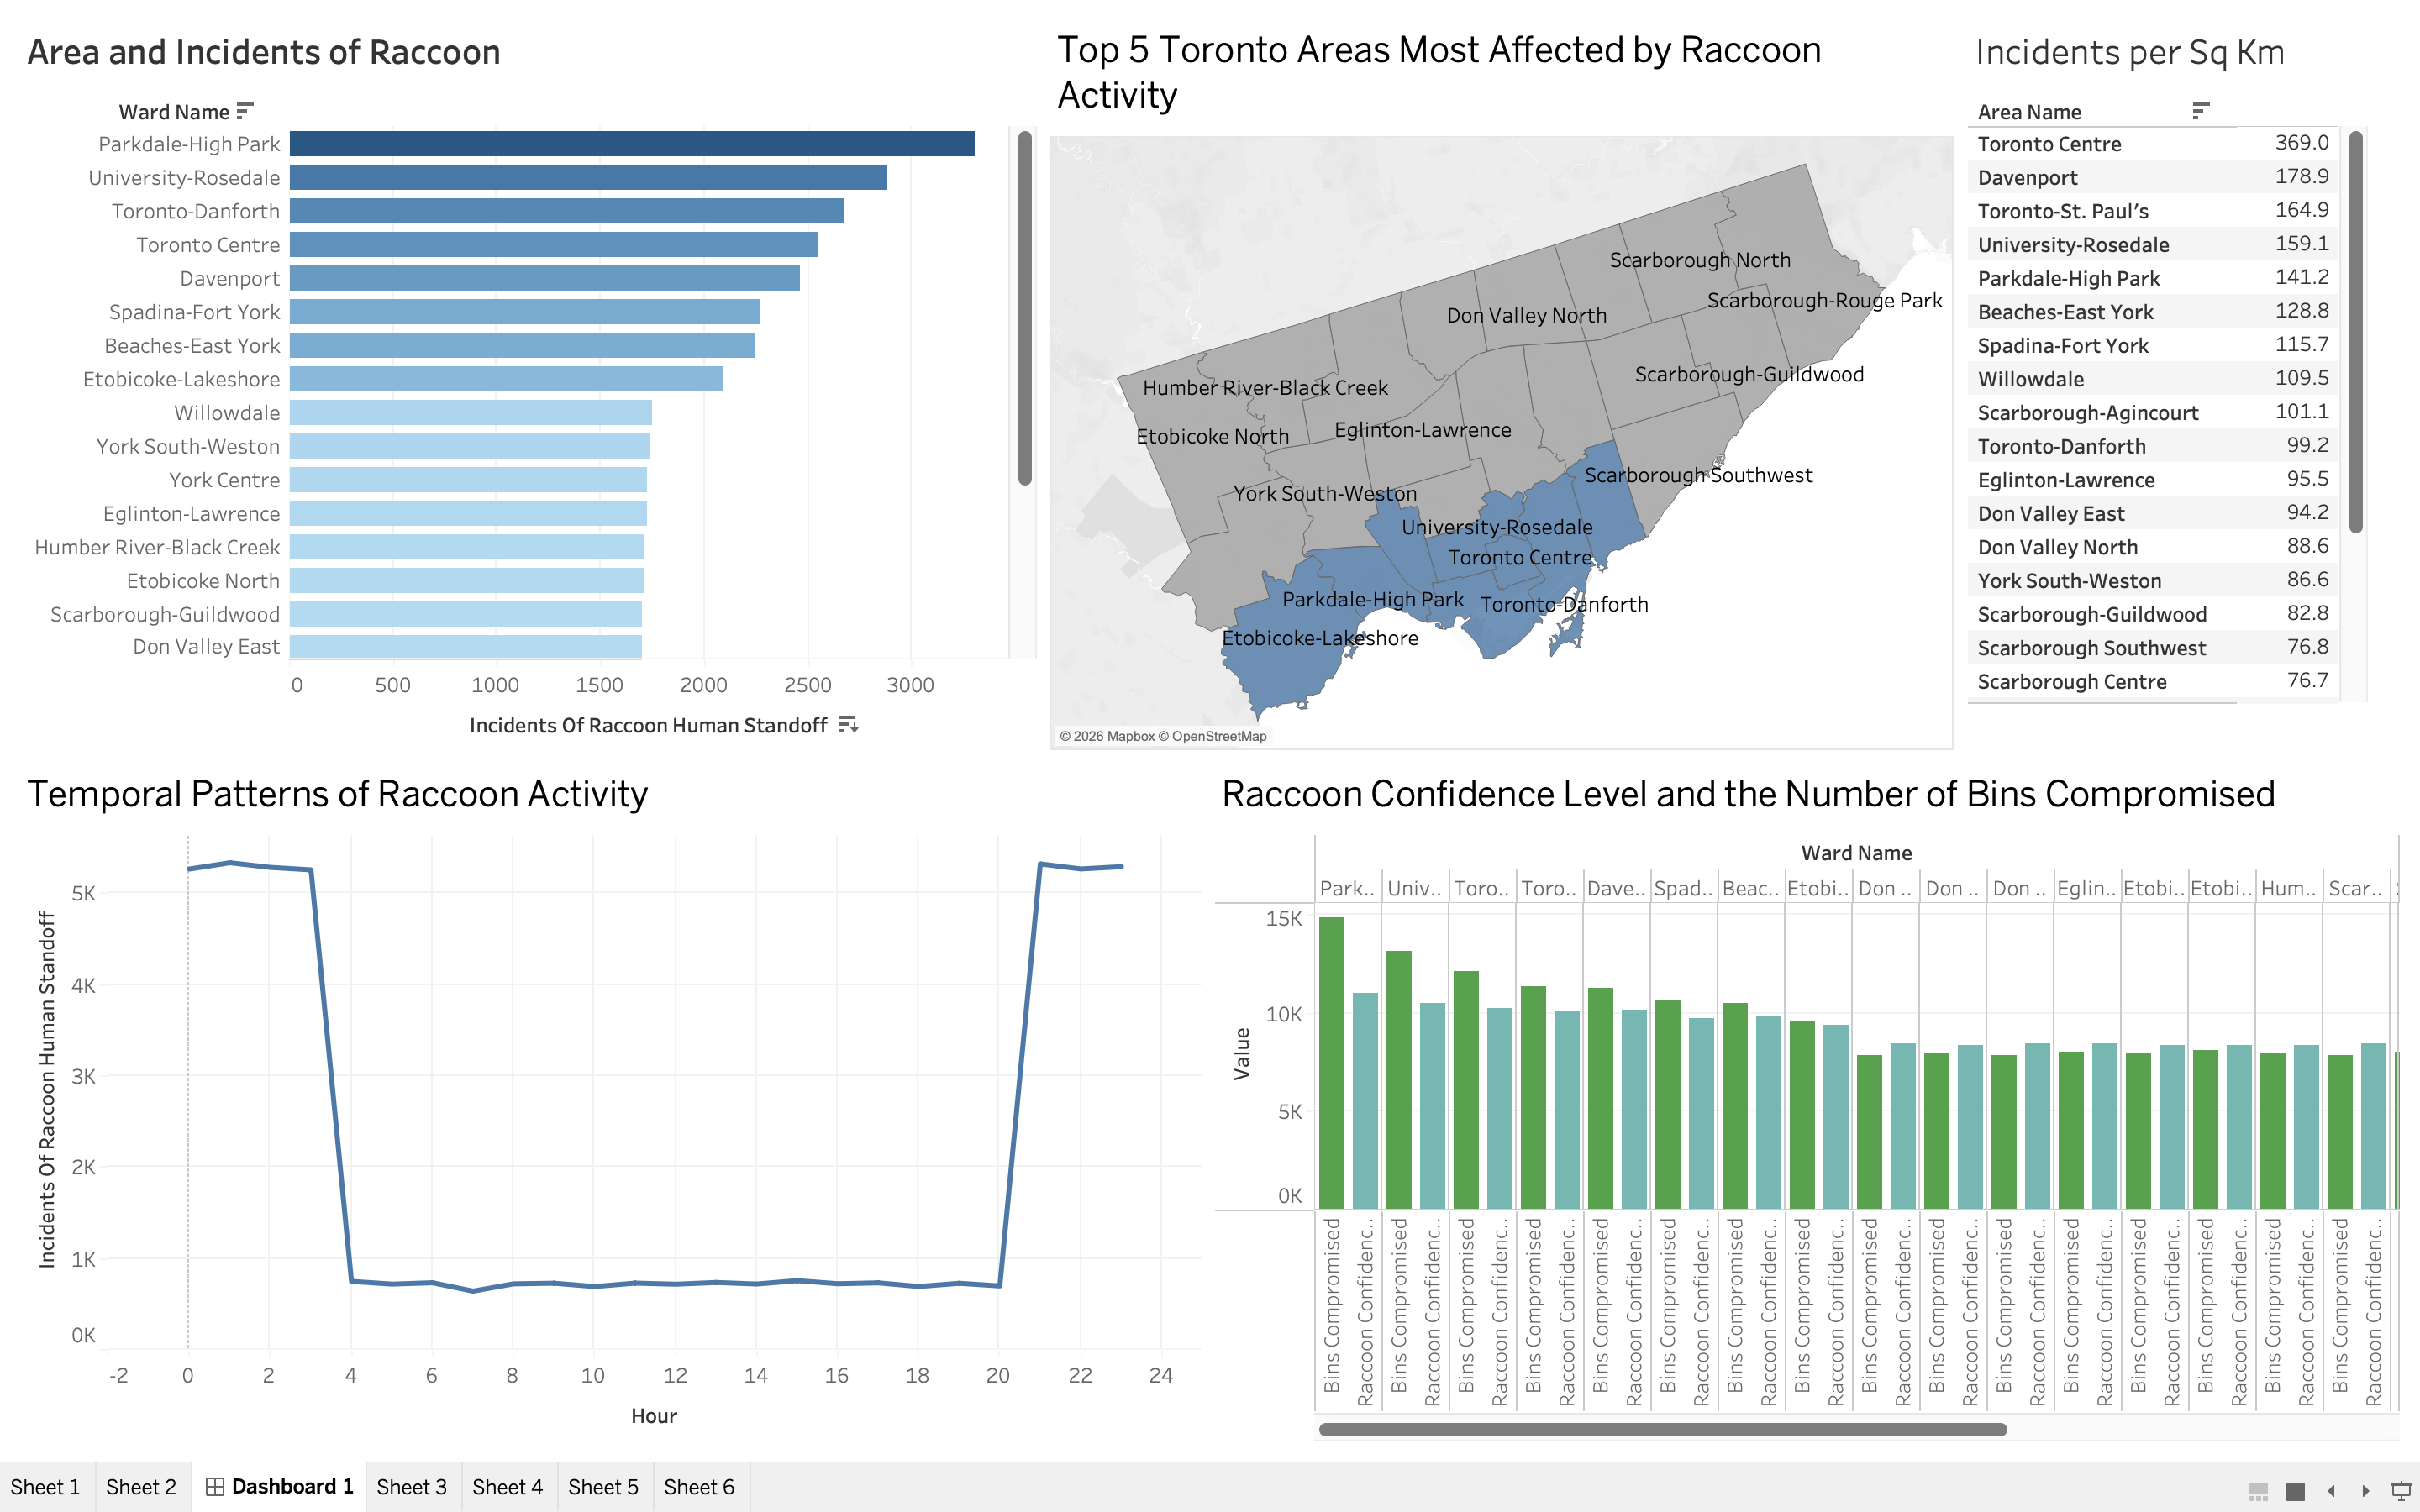

The page's visual inventory and layout, read from the dashboard file:
{"tool":"tableau","page":{"name":"Dashboard 1","canvas":[1000,1000],"units":"permille","ordinal":0},"visuals":[{"type":"worksheet","title":"Sheet 1","mark":"Automatic","rows":["ward_name"],"cols":["incidents_of_raccoon_human_standoff"],"box":[6.5,9.9,424.7,508.6]},{"type":"worksheet","title":"Sheet 4","mark":"Automatic","box":[431.2,9.9,378.4,508.6]},{"type":"worksheet","title":"Sheet 6","mark":"Automatic","rows":["AREA_NAME"],"box":[809.6,9.9,183.9,508.6]},{"type":"worksheet","title":"Sheet 3","mark":"Automatic","rows":["incidents_of_raccoon_human_standoff"],"cols":["hour"],"box":[6.5,518.5,493.1,471.6]},{"type":"worksheet","title":"Sheet 2","mark":"Automatic","cols":["ward_name"],"box":[499.6,518.5,493.9,471.6]}]}

Visuals, with their boxes on the dashboard's canvas, which has no fixed pixel size, in thousandths of its width and height (x1, y1, x2, y2). These are canvas units, not pixel positions in the 2420x1512 screenshot, which may show the page scaled, cropped or inside an application window:
"Sheet 1" worksheet: x1=6 y1=10 x2=431 y2=518
"Sheet 4" worksheet: x1=431 y1=10 x2=810 y2=518
"Sheet 6" worksheet: x1=810 y1=10 x2=994 y2=518
"Sheet 3" worksheet: x1=6 y1=518 x2=500 y2=990
"Sheet 2" worksheet: x1=500 y1=518 x2=994 y2=990
